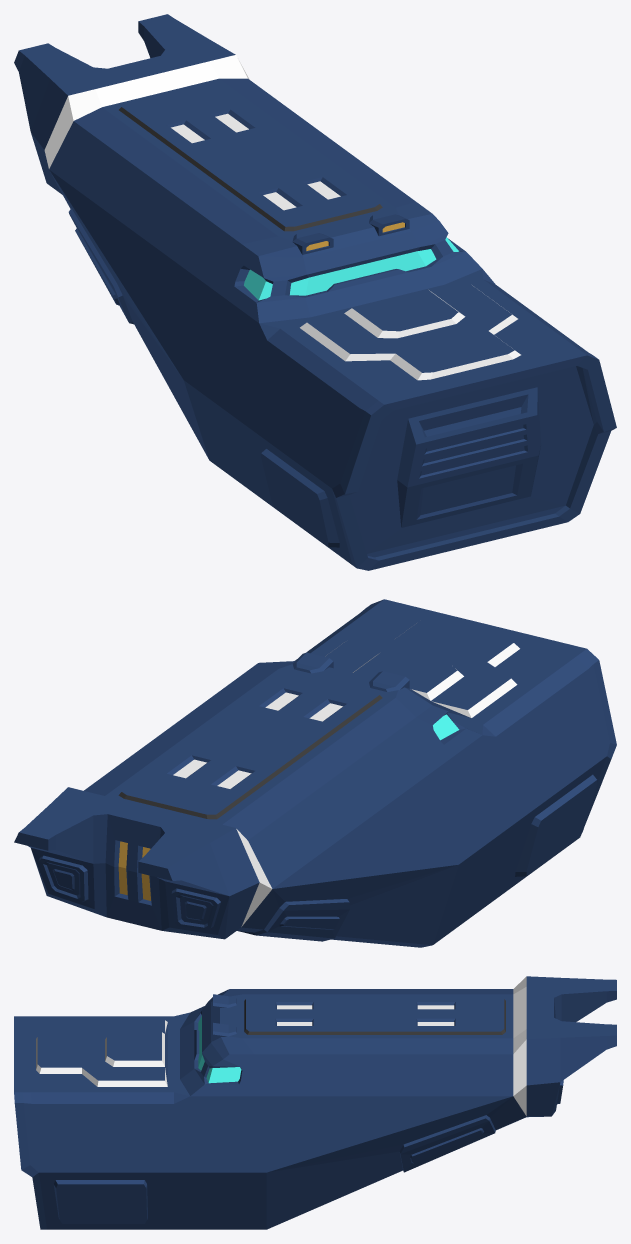
File: Ship_1x2_B1.fbx
The picture shows the model from 3 angles, top to bottom: view 1: azimuth 30°, elevation 25°; view 2: azimuth 150°, elevation 25°; view 3: azimuth 270°, elevation 25°; orthographic projection. The views are drawn at different scales.
Visible parts, largest first — view 1: Ship_1x2_B1; view 2: Ship_1x2_B1; view 3: Ship_1x2_B1.
Part boxes in pixels (x1,y1,x2,y2): Ship_1x2_B1: [14, 14, 616, 570]; Ship_1x2_B1: [14, 599, 616, 947]; Ship_1x2_B1: [14, 976, 616, 1229].
Bounding box in the file's own units: 75.66 × 61.87 × 184.
